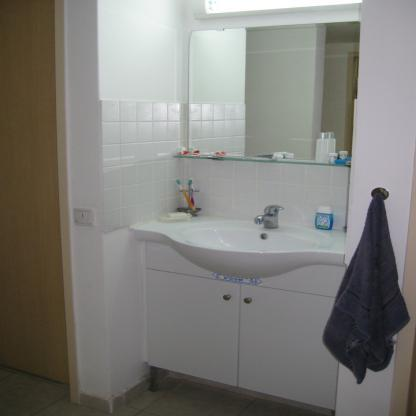door: (0, 0, 60, 392)
